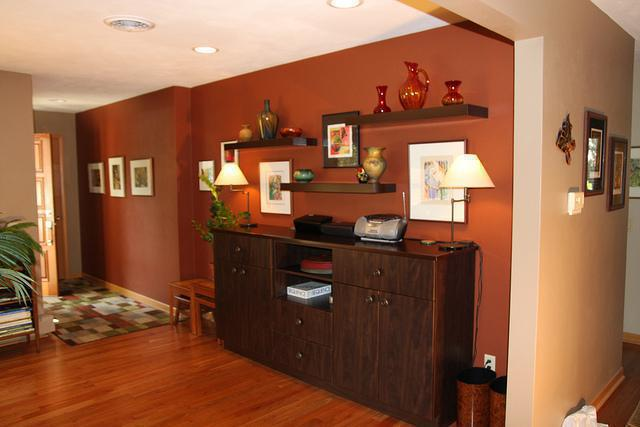Matera: (194, 173, 268, 288), (0, 218, 51, 372)
